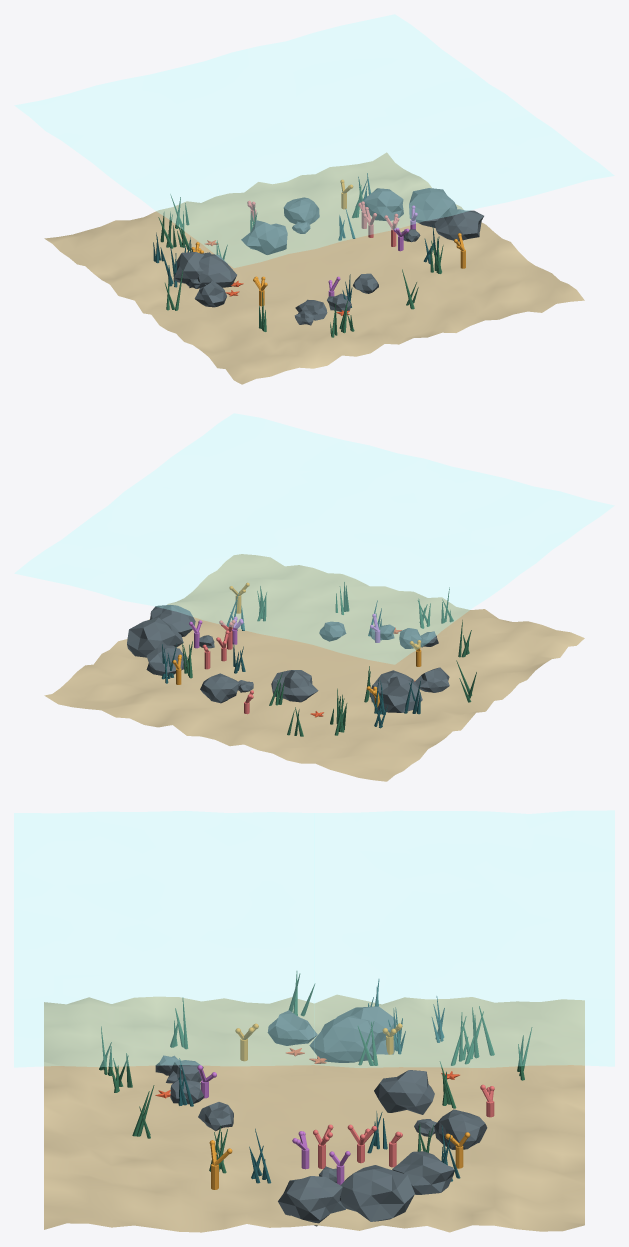
Rendered from loc_sea.glb.
The picture shows the model from 3 angles, top to bottom: view 1: azimuth 30°, elevation 25°; view 2: azimuth 150°, elevation 25°; view 3: azimuth 270°, elevation 25°; orthographic projection. The views are drawn at different scales.
Parts seen in each view (by area): view 1: Sea_Surface, Sea_Floor, Sea_Rock5, Sea_Rock12, Sea_Rock14, Sea_Rock4, Sea_Rock9, Sea_Rock0, Sea_Rock2, Sea_Rock10; view 2: Sea_Surface, Sea_Floor, Sea_Rock5, Sea_Rock0, Sea_Rock14, Sea_Rock12, Sea_Rock2, Sea_Rock4, Sea_Rock10; view 3: Sea_Surface, Sea_Floor, Sea_Rock5, Sea_Rock12, Sea_Rock9, Sea_Rock14, Sea_Rock4, Sea_Rock2, Sea_Rock10, Sea_Rock0, Sea_Rock3, Sea_Rock11.
Part boxes in pixels (bbox=[...]): Sea_Surface: bbox=[15, 14, 614, 267]; Sea_Floor: bbox=[44, 152, 584, 384]; Sea_Rock5: bbox=[409, 188, 456, 227]; Sea_Rock12: bbox=[434, 208, 483, 241]; Sea_Rock14: bbox=[241, 220, 287, 254]; Sea_Rock4: bbox=[360, 188, 403, 220]; Sea_Rock9: bbox=[197, 254, 236, 287]; Sea_Rock0: bbox=[173, 252, 210, 288]; Sea_Rock2: bbox=[283, 197, 319, 224]; Sea_Rock10: bbox=[194, 280, 226, 307]; Sea_Surface: bbox=[15, 413, 613, 664]; Sea_Floor: bbox=[44, 554, 584, 781]; Sea_Rock5: bbox=[127, 617, 183, 657]; Sea_Rock0: bbox=[371, 676, 422, 712]; Sea_Rock14: bbox=[271, 670, 318, 702]; Sea_Rock12: bbox=[150, 605, 195, 636]; Sea_Rock2: bbox=[200, 673, 238, 703]; Sea_Rock4: bbox=[146, 645, 187, 675]; Sea_Rock10: bbox=[415, 667, 449, 692]; Sea_Surface: bbox=[14, 810, 614, 1067]; Sea_Floor: bbox=[44, 994, 584, 1232]; Sea_Rock5: bbox=[340, 1165, 414, 1221]; Sea_Rock12: bbox=[278, 1176, 345, 1226]; Sea_Rock9: bbox=[309, 1015, 374, 1062]; Sea_Rock14: bbox=[374, 1070, 434, 1114]; Sea_Rock4: bbox=[392, 1151, 454, 1194]; Sea_Rock2: bbox=[434, 1109, 487, 1149]; Sea_Rock10: bbox=[267, 1010, 317, 1045]; Sea_Rock0: bbox=[336, 1006, 396, 1054]; Sea_Rock3: bbox=[198, 1102, 233, 1131]; Sea_Rock11: bbox=[166, 1060, 203, 1083].
Bounding box in the file's own units: 20 × 6.95 × 20.
